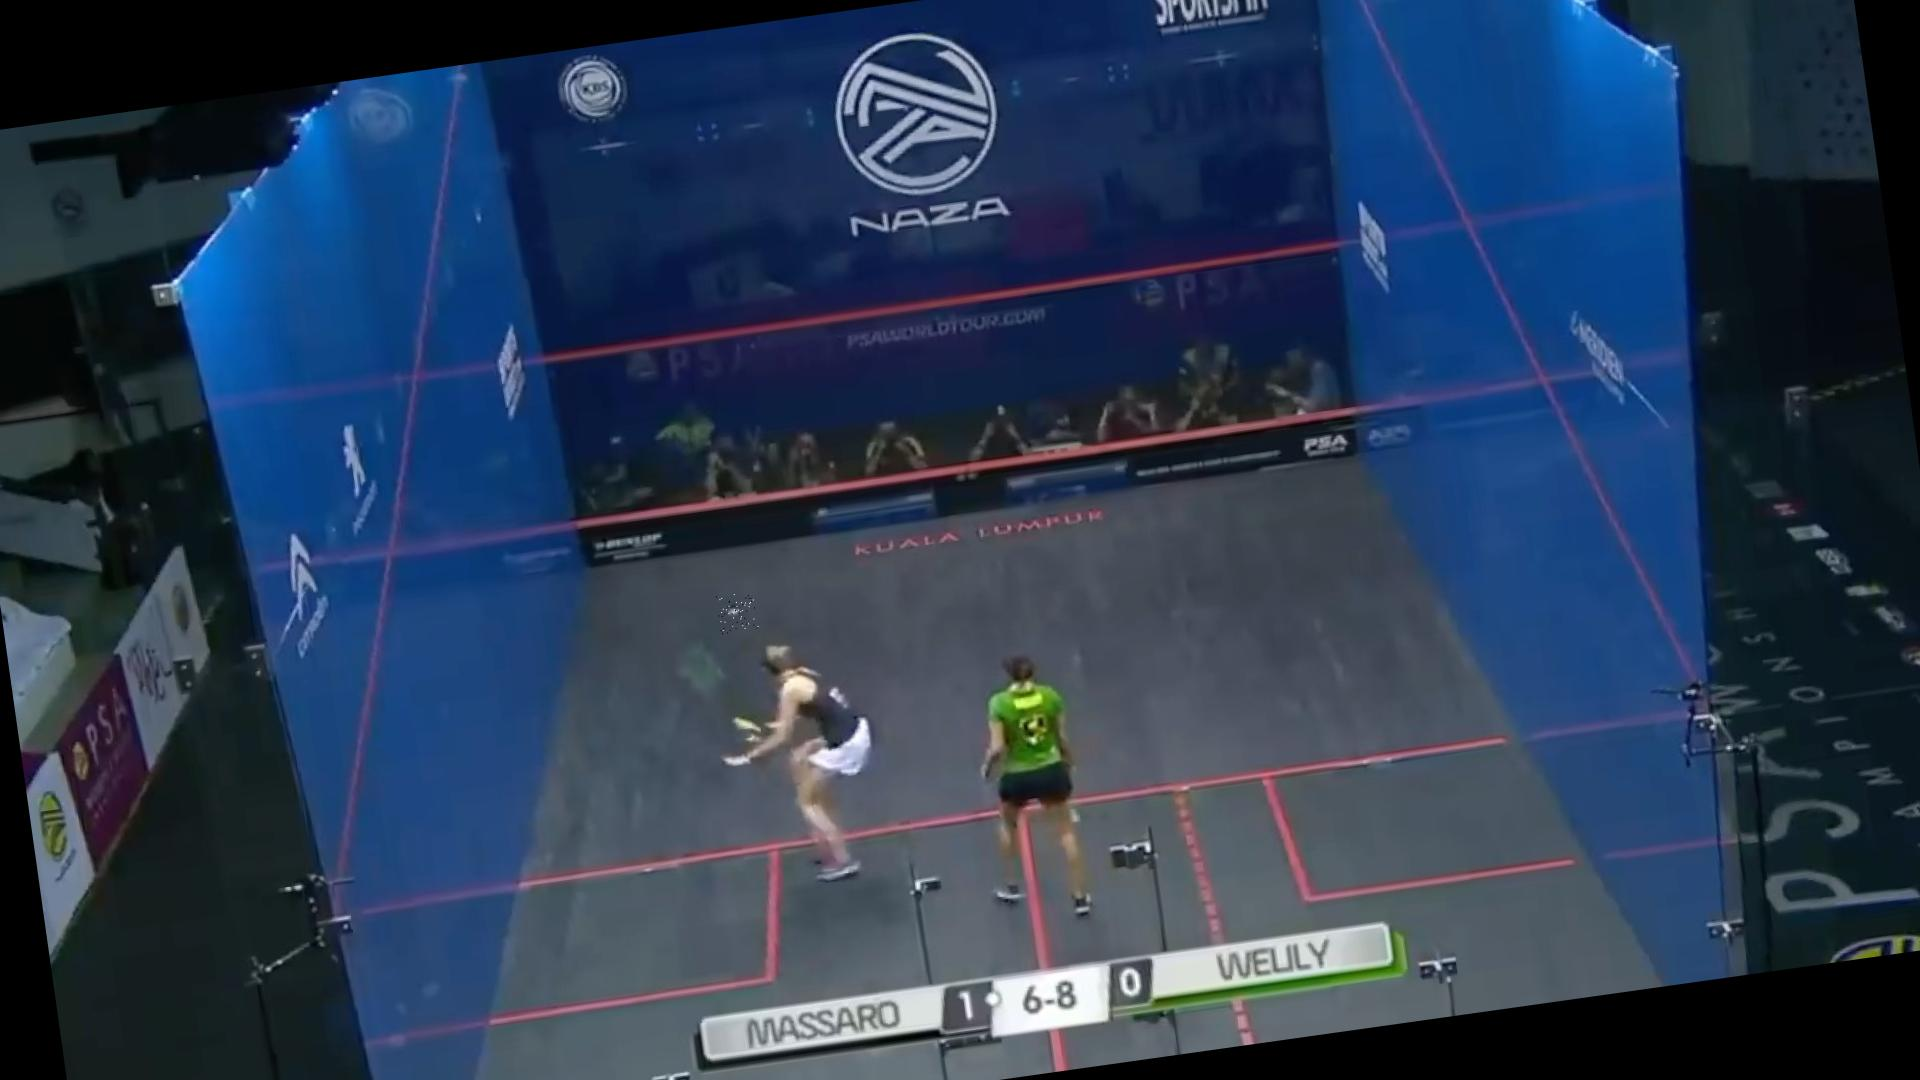Squash-Ball: (716, 591, 758, 634)
